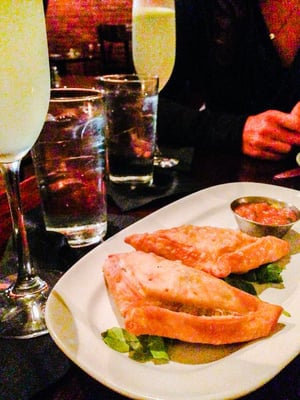pizza: (30, 88, 109, 249), (95, 74, 159, 189)
soup: (101, 250, 285, 364), (124, 224, 291, 291)
sushi: (230, 196, 300, 239)
